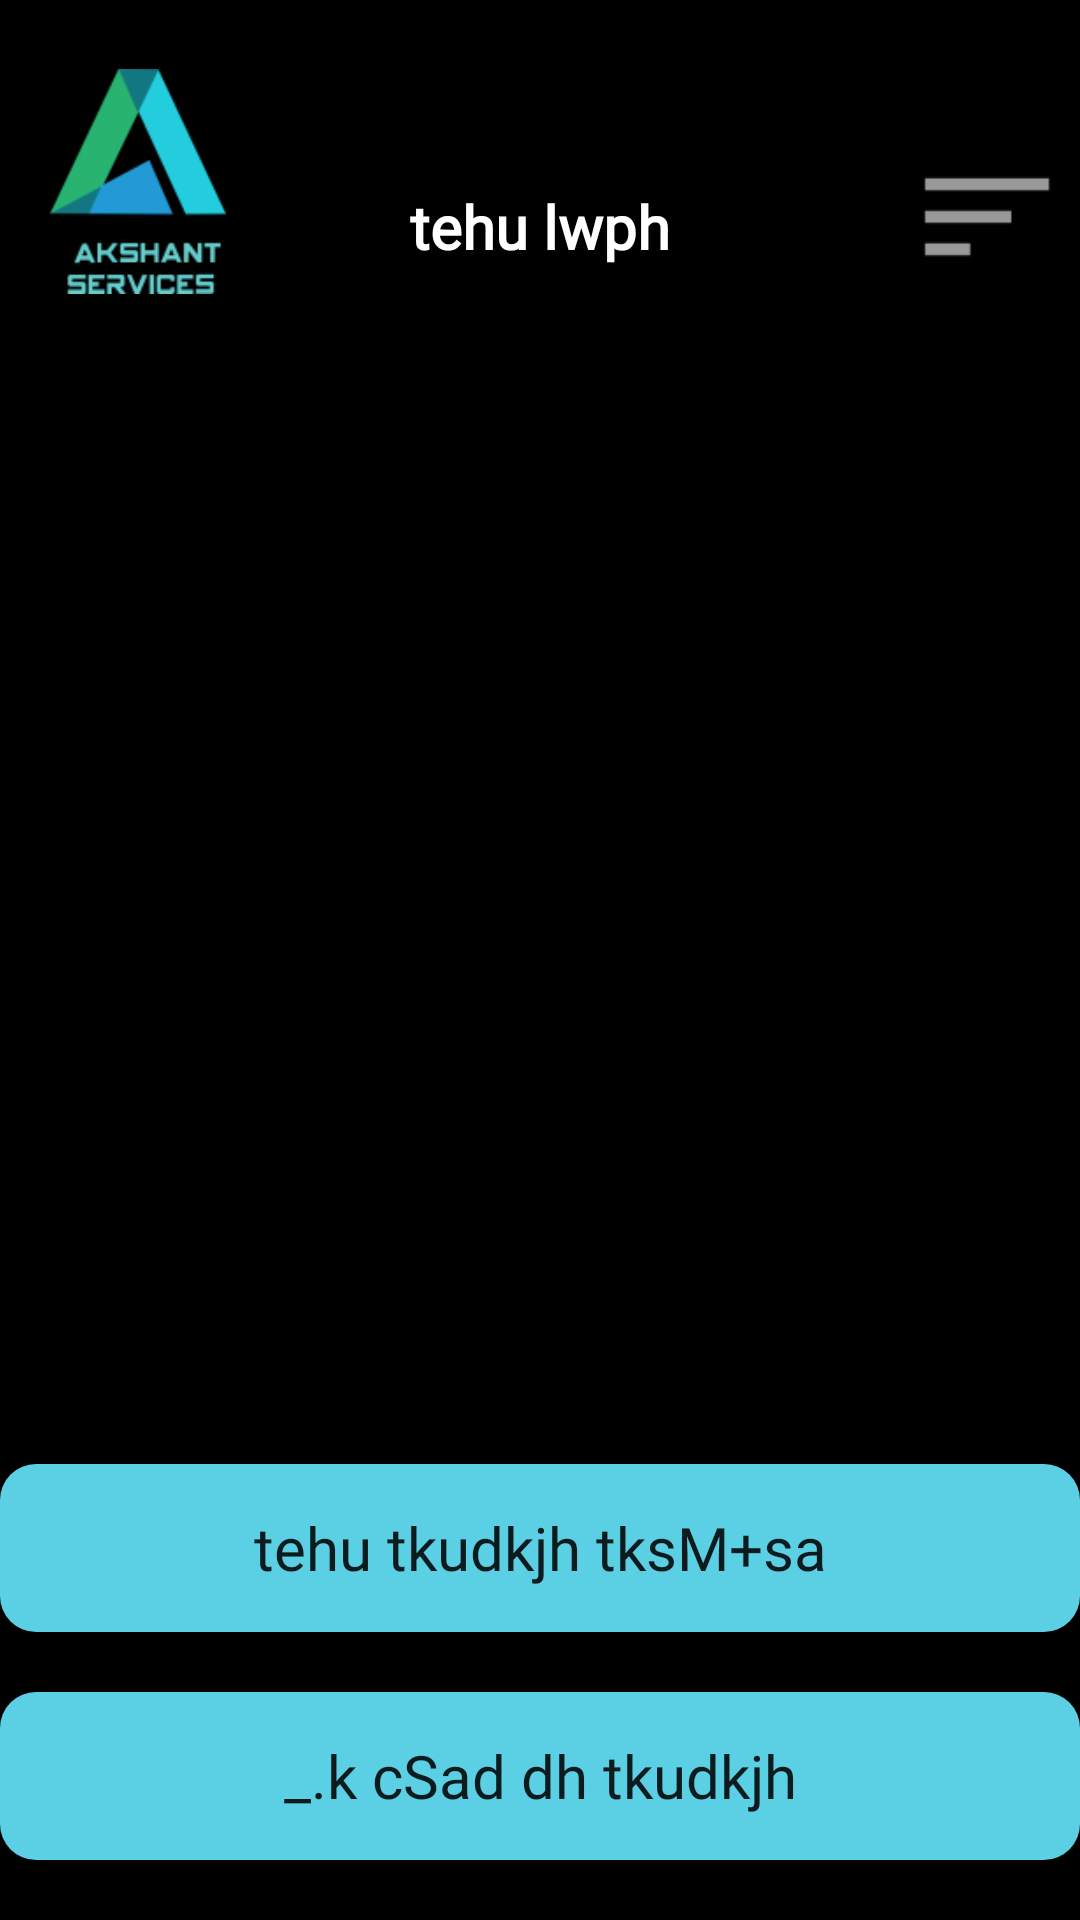

Where to tap for icons on this 1080px x 1920px app screen, as [x,y]:
sort by size: [987,216]
